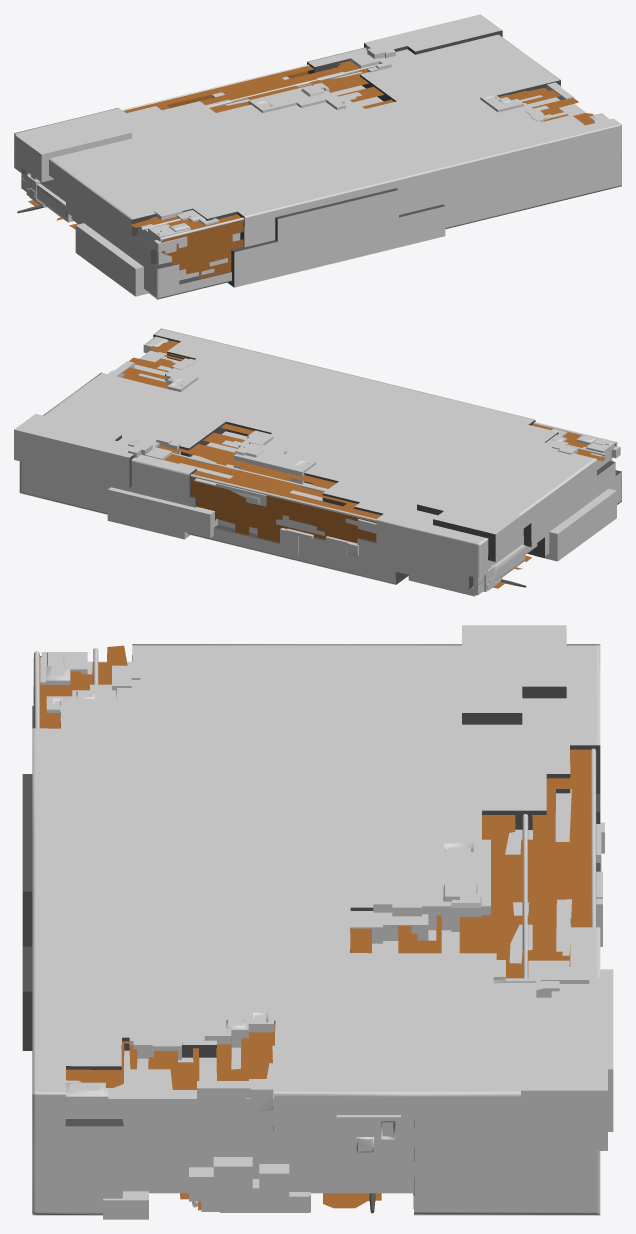
File: VexArchitecture_03.fbx
3 views of the same model, one above another, from view 1: azimuth 30°, elevation 25°; view 2: azimuth 150°, elevation 25°; view 3: azimuth 270°, elevation 25° (orthographic). The views are drawn at different scales.
Visible parts, largest first — view 1: Mesh_0267.rip.001, Mesh_0277.rip.001, Mesh_0193.rip.001, Mesh_0201.rip.001; view 2: Mesh_0267.rip.001, Mesh_0277.rip.001, Mesh_0193.rip.001, Mesh_0201.rip.001; view 3: Mesh_0267.rip.001, Mesh_0277.rip.001, Mesh_0193.rip.001, Mesh_0201.rip.001.
Boxes of the visible parts, x1=… form: Mesh_0267.rip.001: x1=14, y1=14, x2=621, y2=299; Mesh_0277.rip.001: x1=21, y1=42, x2=609, y2=280; Mesh_0193.rip.001: x1=28, y1=61, x2=594, y2=278; Mesh_0201.rip.001: x1=17, y1=30, x2=560, y2=287; Mesh_0267.rip.001: x1=14, y1=328, x2=621, y2=589; Mesh_0277.rip.001: x1=107, y1=336, x2=620, y2=596; Mesh_0193.rip.001: x1=121, y1=340, x2=616, y2=588; Mesh_0201.rip.001: x1=115, y1=334, x2=621, y2=589; Mesh_0267.rip.001: x1=32, y1=625, x2=613, y2=1215; Mesh_0277.rip.001: x1=33, y1=648, x2=604, y2=1219; Mesh_0193.rip.001: x1=39, y1=645, x2=591, y2=1210; Mesh_0201.rip.001: x1=22, y1=655, x2=600, y2=1213.
Bounding box in the file's own units: 199 × 29.15 × 105.
